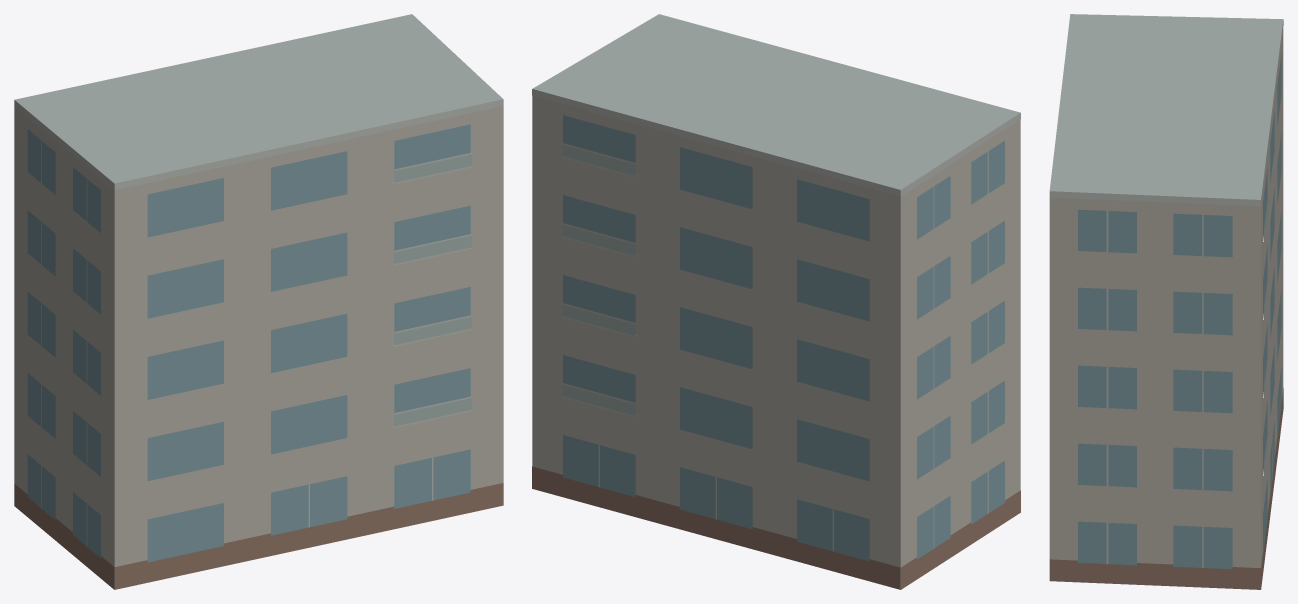
File: survey-upis-32733820.glb
3 views of the same model, side by side, from view 1: azimuth 30°, elevation 25°; view 2: azimuth 150°, elevation 25°; view 3: azimuth 270°, elevation 25° (orthographic). The views are drawn at different scales.
Parts seen in each view (by area): view 1: survey-upis-32733820.tmp; view 2: survey-upis-32733820.tmp; view 3: survey-upis-32733820.tmp.
Boxes of the visible parts, <box> form: survey-upis-32733820.tmp: <box>14,14,503,589</box>; survey-upis-32733820.tmp: <box>532,14,1020,589</box>; survey-upis-32733820.tmp: <box>1049,14,1283,589</box>.
Size of the model in its own units: 15.05 by 14.7 by 8.
